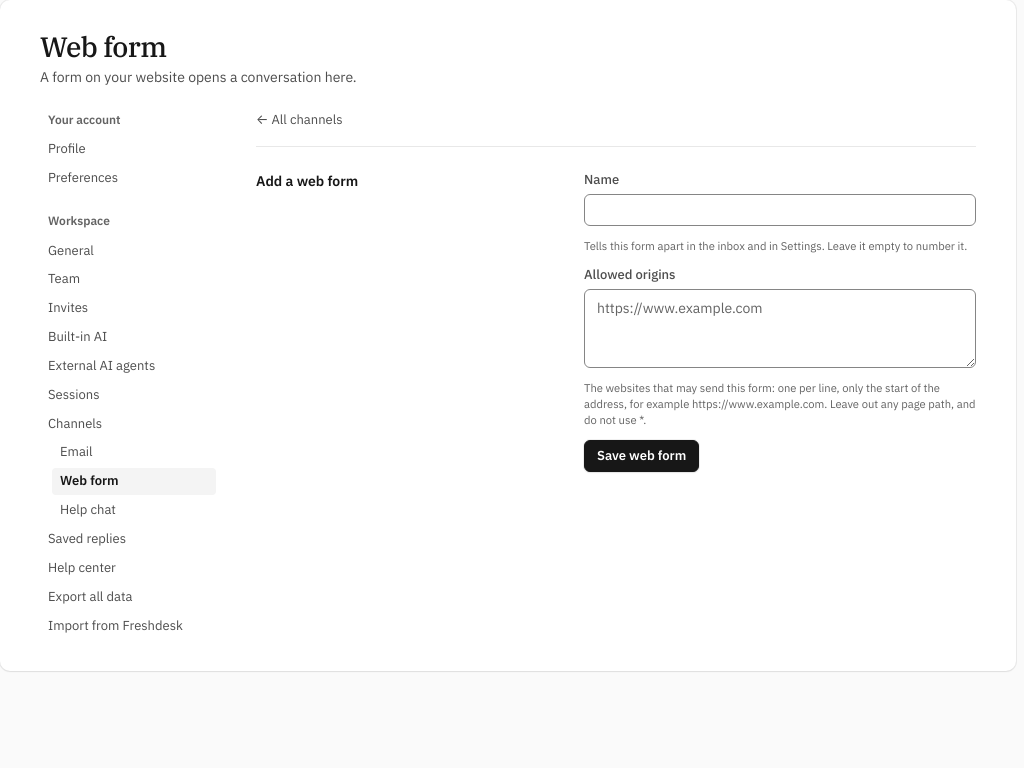
Test: a refused web form connect shows the server message
Click the button "Save web form". click: (642,456)
box: x1=584 y1=440 x2=699 y2=472
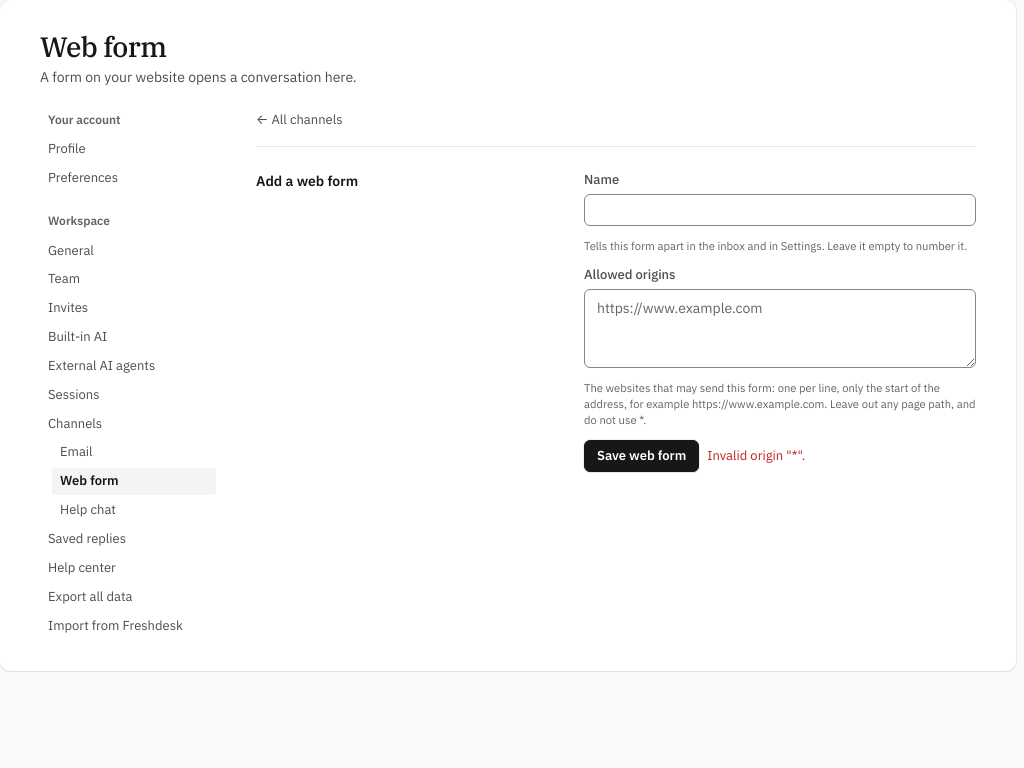
Check: the message reads "Invalid origin \"*\".", box x1=707 y1=447 x2=805 y2=464
